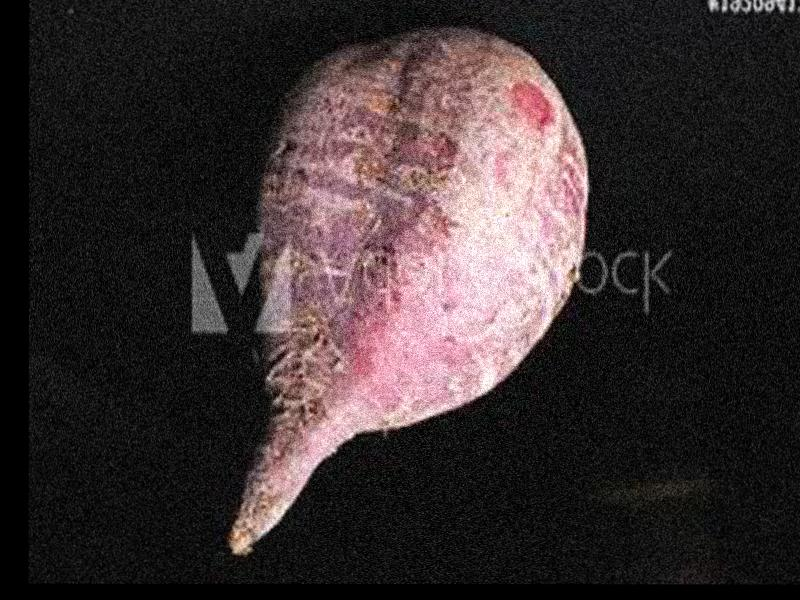Beet: (232, 32, 591, 554)
